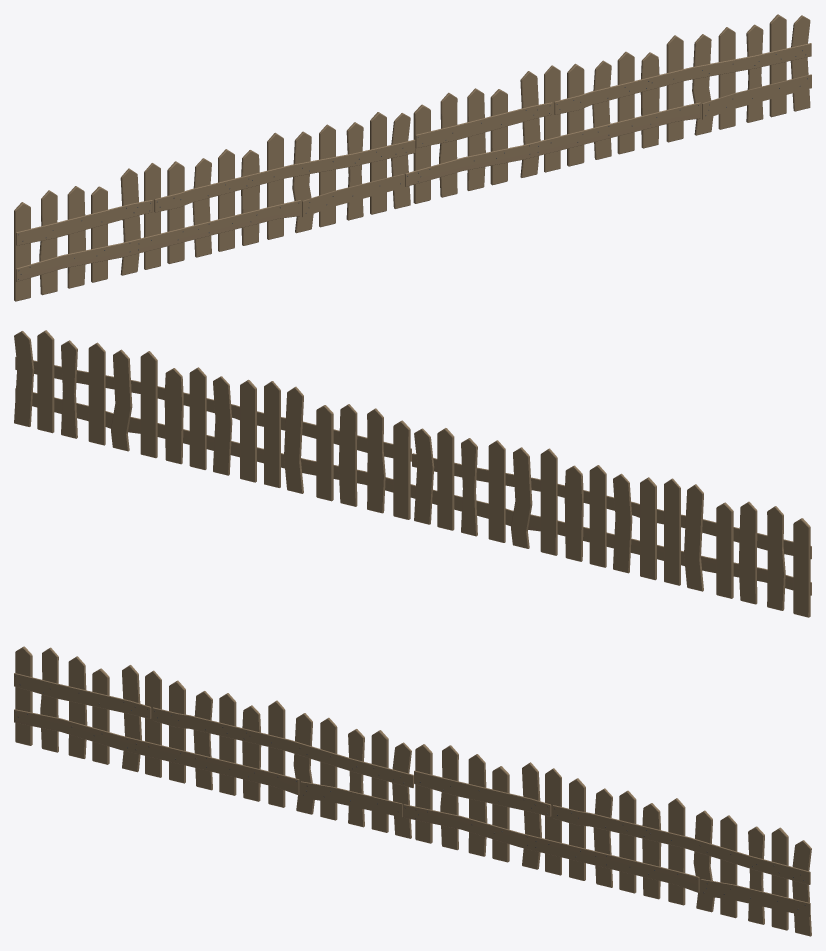
The model's file is zaun.fbx.
The picture shows the model from 3 angles, top to bottom: view 1: azimuth 30°, elevation 25°; view 2: azimuth 150°, elevation 25°; view 3: azimuth 330°, elevation 25°; orthographic projection.
Visible parts, largest first — view 1: pCube85; view 2: pCube85; view 3: pCube85.
Boxes of the visible parts, x1=… form: pCube85: x1=14, y1=14, x2=811, y2=301; pCube85: x1=14, y1=330, x2=811, y2=617; pCube85: x1=14, y1=646, x2=811, y2=936.
Bounding box in the file's own units: 524 × 66.03 × 3.44.
